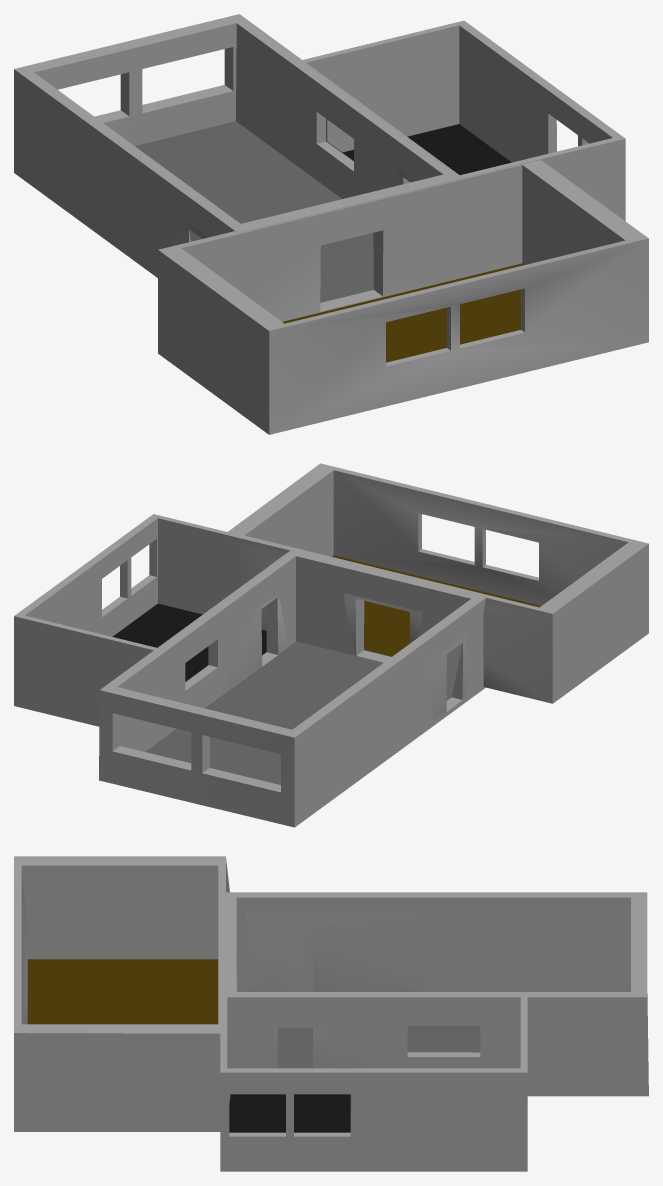
The model's file is StructureNEw.fbx.
3 views of the same model, one above another, from view 1: azimuth 30°, elevation 25°; view 2: azimuth 150°, elevation 25°; view 3: azimuth 270°, elevation 25° (orthographic). The views are drawn at different scales.
Parts seen in each view (by area): view 1: RoomLayout4; view 2: RoomLayout4; view 3: RoomLayout4.
Part boxes in pixels (left/top/right/bottom): RoomLayout4: left=14, top=14, right=648, bottom=434; RoomLayout4: left=14, top=463, right=648, bottom=827; RoomLayout4: left=14, top=856, right=648, bottom=1171.
Size of the model in its own units: 82.95 by 17.74 by 103.
